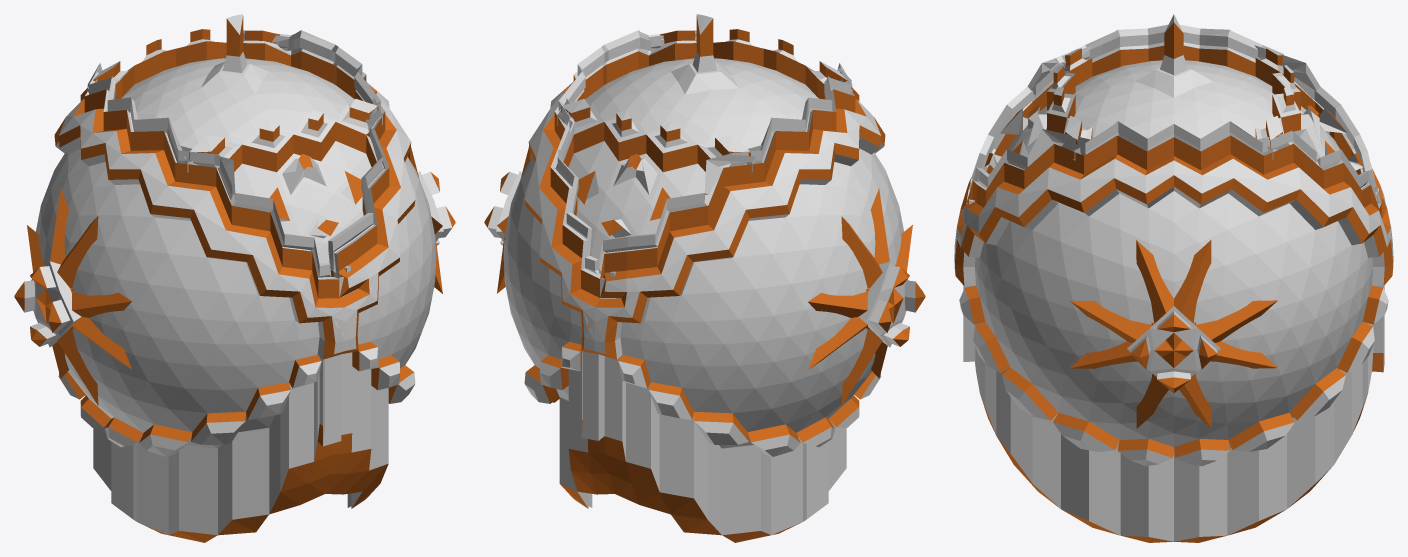
The model's file is agent.fbx.
3 renders of one model, left to right at view 1: azimuth 30°, elevation 25°; view 2: azimuth 150°, elevation 25°; view 3: azimuth 270°, elevation 25°, orthographic.
Visible parts, largest first — view 1: Null_1; view 2: Null_1; view 3: Null_1.
Boxes of the visible parts, box(x1,y1,x2,y2) form: Null_1: box(14, 14, 455, 542); Null_1: box(484, 14, 925, 542); Null_1: box(954, 14, 1393, 542).
Bounding box in the file's own units: 233 × 267 × 220.
